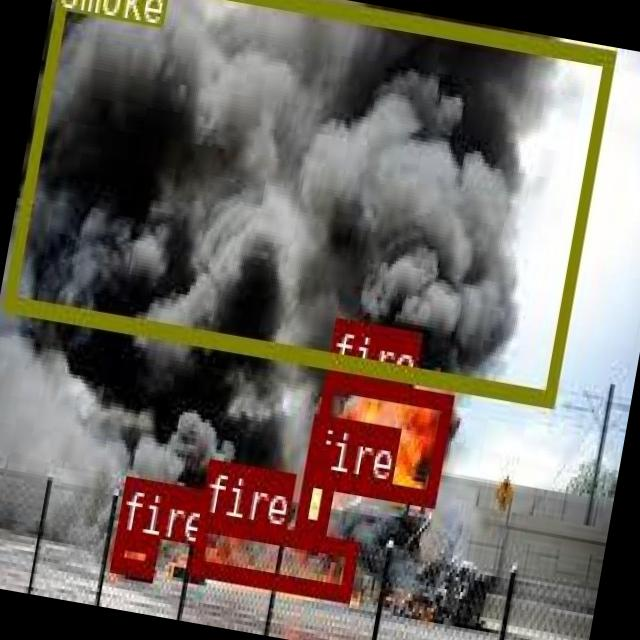fire: (306, 370, 451, 502), (188, 510, 356, 600), (292, 468, 334, 534), (109, 528, 157, 574)
smoke: (0, 0, 614, 403)
